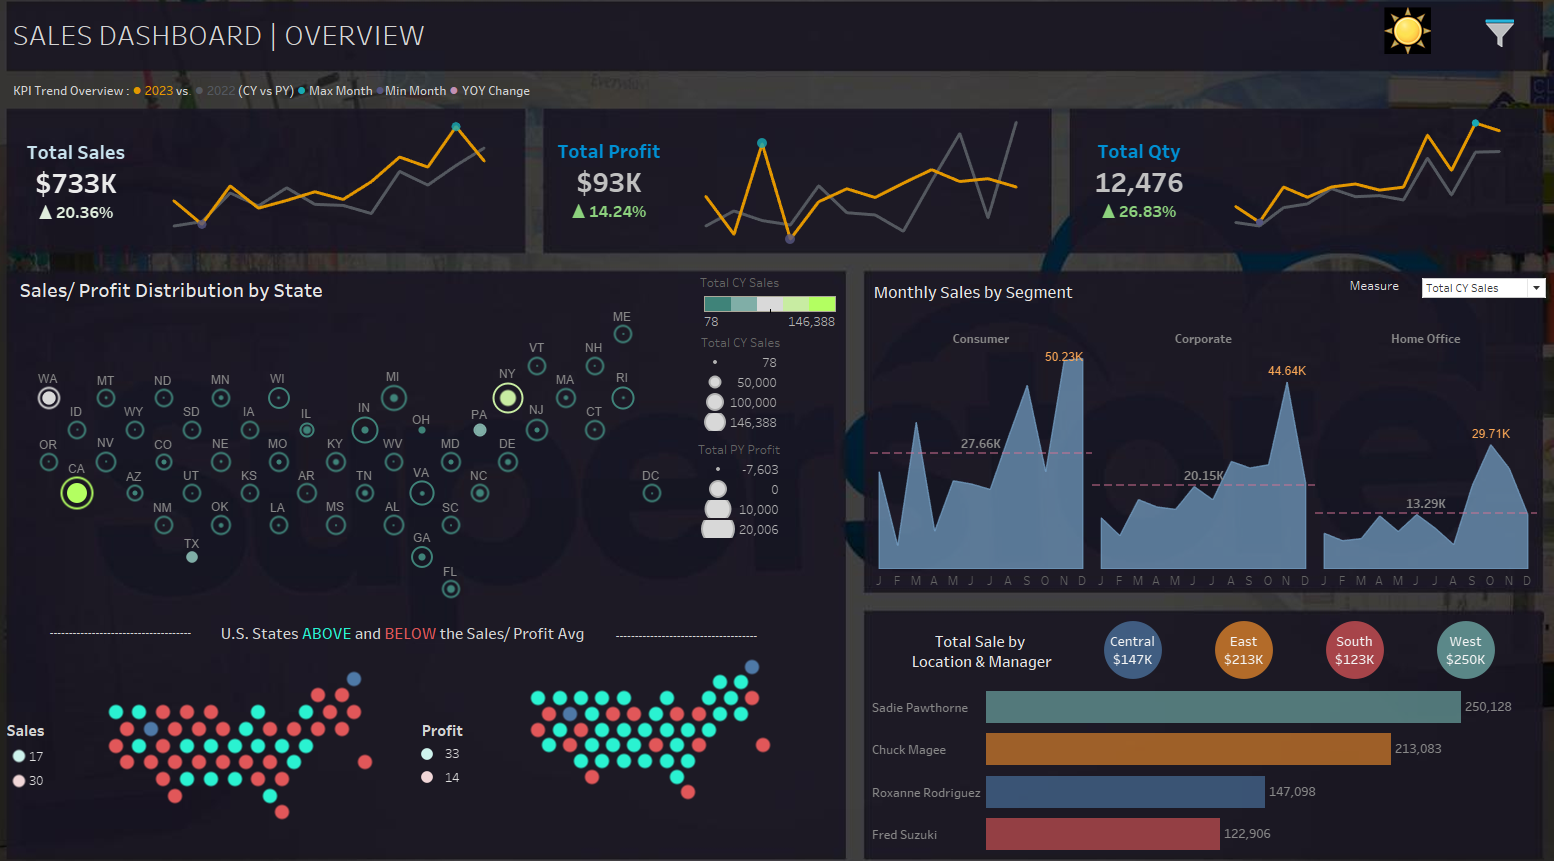

The page's visual inventory and layout, read from the dashboard file:
{"tool":"tableau","page":{"name":"Dark Sales Dashboard","canvas":[1600,900],"ordinal":0},"visuals":[{"type":"image","param":"C:/Users/Seth/Downloads/Sales Dashboard Background.pptx.jpg","box":[8,8,1584,884]},{"type":"text","box":[34,24,590,60]},{"type":"dashboard-object","box":[1358,27,147,47]},{"type":"dashboard-object","box":[1508,39,30,28]},{"type":"filter","title":"Sales/Profit by State","param":"[federated.0ki7qsz12wxfyk1730o4k0y72imt].[none:Category:nk]","box":[1306,57,202,52]},{"type":"text","box":[32,99,523,20]},{"type":"filter","title":"Sales/Profit by State","param":"[federated.0ki7qsz12wxfyk1730o4k0y72imt].[none:Region:nk]","box":[1306,109,202,52]},{"type":"worksheet","title":"Profit KPI","mark":"Automatic","box":[569,130,128,139]},{"type":"worksheet","title":"Profit Sparkline ","mark":"Line","rows":["min max month (sales) (copy)_1448470258024054800"],"cols":["Order Date"],"box":[697,130,375,139]},{"type":"worksheet","title":"Qty KPI","mark":"Automatic","box":[1094,130,137,140]},{"type":"worksheet","title":"Qty Sparkline ","mark":"Line","rows":["min max month (profit) (copy)_1448470258029834257"],"cols":["Order Date"],"box":[1231,130,320,140]},{"type":"worksheet","title":"Sales KPI","mark":"Automatic","box":[35,133,130,135]},{"type":"worksheet","title":"Sales Sparkline","mark":"Automatic","rows":["Calculation_1448470257656348687"],"cols":["Order Date"],"box":[165,133,375,135]},{"type":"filter","title":"Sales/Profit by State","param":"[federated.0ki7qsz12wxfyk1730o4k0y72imt].[none:Ship Mode:nk]","box":[1306,161,202,52]},{"type":"text","box":[41,294,309,30]},{"type":"legend","title":"Sales/Profit by State","param":"[federated.0ki7qsz12wxfyk1730o4k0y72imt].[sum:Calculation_1448470257633869824:qk","box":[724,294,140,76]},{"type":"parameter","param":"[Parameters].[Parameter 1]","box":[1371,295,202,38]},{"type":"text","box":[895,297,205,30]},{"type":"worksheet","title":"Sales/Profit by State","mark":"Circle","rows":["Row"],"cols":["Column","Column"],"box":[32,322,683,319]},{"type":"worksheet","title":"Monthly Sales by Segment","mark":"Area","rows":["Calculation_1448470258654294041"],"cols":["Segment","Order Date"],"box":[894,348,667,262]},{"type":"legend","title":"Sales/Profit by State","param":"[federated.0ki7qsz12wxfyk1730o4k0y72imt].[sum:Calculation_1448470257633869824:qk","box":[725,354,140,98]},{"type":"legend","title":"Sales/Profit by State","param":"[federated.0ki7qsz12wxfyk1730o4k0y72imt].[sum:Total CY Profit (copy)_14484702576","box":[722,461,140,114]},{"type":"worksheet","title":"Regional Sales","mark":"Circle","cols":["Region"],"box":[1102,636,443,68]},{"type":"text","box":[71,637,147,30]},{"type":"text","box":[242,638,411,30]},{"type":"text","box":[637,640,147,30]},{"type":"text","box":[899,641,210,61]},{"type":"worksheet","title":"Avg Profit by State","mark":"Circle","rows":["Row"],"cols":["Column"],"box":[544,671,261,157]},{"type":"worksheet","title":"Avg Sale by State","mark":"Circle","rows":["Row"],"cols":["Column"],"box":[120,682,289,167]},{"type":"worksheet","title":"Total Sales by location and manager","mark":"Automatic","rows":["Country/Region","Regional Manager"],"cols":["Calculation_1448470257633869824"],"box":[890,706,674,169]},{"type":"text","box":[28,735,100,30]},{"type":"text","box":[443,735,100,30]},{"type":"worksheet","title":"State Profit Count","mark":"Circle","rows":["Sales Avg Color (copy)_1448470258440863767"],"box":[415,762,71,47]},{"type":"worksheet","title":"State Sales Count","mark":"Circle","rows":["Calculation_1448470258438344724"],"box":[16,764,54,49]}]}

Visuals, with their boxes in screenshot pixels (x1, y1, x2, y2), scaled from the page's 1600x900 canvas onto the 1555x861 screenshot:
image: bbox=[8, 8, 1547, 853]
text: bbox=[33, 23, 606, 80]
dashboard-object: bbox=[1320, 26, 1463, 71]
dashboard-object: bbox=[1466, 37, 1495, 64]
"Sales/Profit by State" filter: bbox=[1269, 55, 1466, 104]
text: bbox=[31, 95, 539, 114]
"Sales/Profit by State" filter: bbox=[1269, 104, 1466, 154]
"Profit KPI" worksheet: bbox=[553, 124, 677, 257]
"Profit Sparkline " worksheet (Line marks): bbox=[677, 124, 1042, 257]
"Qty KPI" worksheet: bbox=[1063, 124, 1196, 258]
"Qty Sparkline " worksheet (Line marks): bbox=[1196, 124, 1507, 258]
"Sales KPI" worksheet: bbox=[34, 127, 160, 256]
"Sales Sparkline" worksheet: bbox=[160, 127, 525, 256]
"Sales/Profit by State" filter: bbox=[1269, 154, 1466, 204]
text: bbox=[40, 281, 340, 310]
"Sales/Profit by State" legend: bbox=[704, 281, 840, 354]
parameter: bbox=[1332, 282, 1529, 319]
text: bbox=[870, 284, 1069, 313]
"Sales/Profit by State" worksheet (Circle marks): bbox=[31, 308, 695, 613]
"Monthly Sales by Segment" worksheet (Area marks): bbox=[869, 333, 1517, 584]
"Sales/Profit by State" legend: bbox=[705, 339, 841, 432]
"Sales/Profit by State" legend: bbox=[702, 441, 838, 550]
"Regional Sales" worksheet (Circle marks): bbox=[1071, 608, 1502, 673]
text: bbox=[69, 609, 212, 638]
text: bbox=[235, 610, 635, 639]
text: bbox=[619, 612, 762, 641]
text: bbox=[874, 613, 1078, 672]
"Avg Profit by State" worksheet (Circle marks): bbox=[529, 642, 782, 792]
"Avg Sale by State" worksheet (Circle marks): bbox=[117, 652, 397, 812]
"Total Sales by location and manager" worksheet: bbox=[865, 675, 1520, 837]
text: bbox=[27, 703, 124, 732]
text: bbox=[431, 703, 528, 732]
"State Profit Count" worksheet (Circle marks): bbox=[403, 729, 472, 774]
"State Sales Count" worksheet (Circle marks): bbox=[16, 731, 68, 778]
